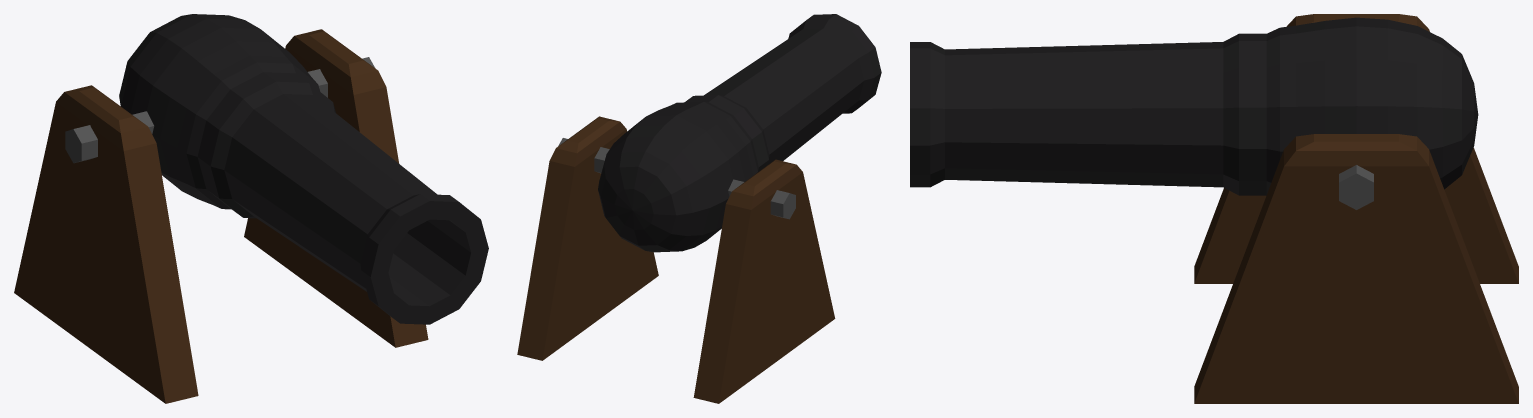
The model's file is Cannon.fbx.
3 views of the same model, side by side, from view 1: azimuth 30°, elevation 25°; view 2: azimuth 150°, elevation 25°; view 3: azimuth 270°, elevation 25° (orthographic). The views are drawn at different scales.
Visible parts, largest first — view 1: Cannon Barrel, Cannon; view 2: Cannon, Cannon Barrel; view 3: Cannon Barrel, Cannon.
Part boxes in pixels (left/top/right/bottom): Cannon Barrel: left=119, top=14, right=488, bottom=324; Cannon: left=14, top=29, right=428, bottom=403; Cannon: left=517, top=116, right=835, bottom=403; Cannon Barrel: left=598, top=14, right=881, bottom=252; Cannon Barrel: left=910, top=17, right=1478, bottom=195; Cannon: left=1194, top=14, right=1518, bottom=403.
Size of the model in its own units: 90 by 84 by 150.
